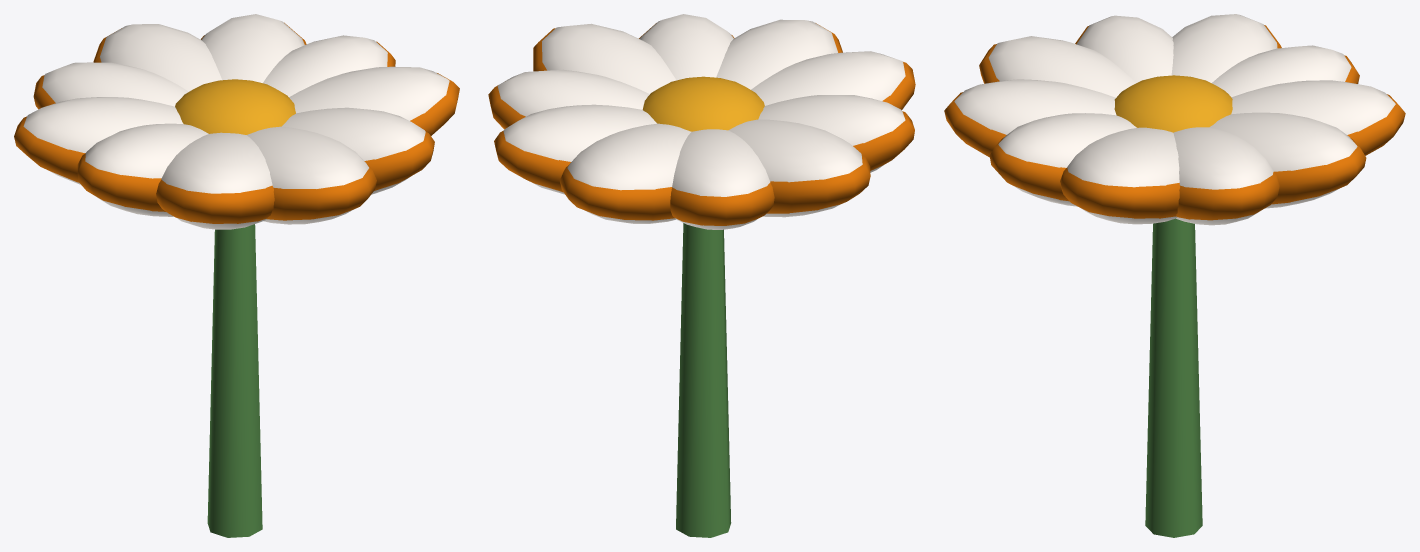
The model's file is cosmos-daisy-flower-orange.glb.
3 renders of one model, left to right at view 1: azimuth 30°, elevation 25°; view 2: azimuth 150°, elevation 25°; view 3: azimuth 270°, elevation 25°, orthographic.
Parts seen in each view (by area): view 1: stem, part_6, part_2, part_20, part_16, part_12, center, part_18, part_10, part_4, part_14, part_8 (+6 smaller); view 2: stem, part_12, part_16, part_6, part_20, part_14, part_10, center, part_2, part_8, part_18, part_4 (+7 smaller); view 3: stem, part_6, part_10, part_2, part_12, part_20, center, part_8, part_16, part_4, part_14, part_18 (+6 smaller).
Boxes of the visible parts, box(x1,y1,x2,y2) form: stem: box(207, 224, 262, 537); part_6: box(289, 66, 449, 120); part_2: box(247, 126, 368, 224); part_20: box(161, 132, 272, 229); part_16: box(23, 97, 183, 184); part_12: box(100, 24, 221, 91); center: box(175, 79, 295, 134); part_18: box(85, 123, 208, 216); part_10: box(201, 14, 304, 82); part_4: box(282, 107, 425, 194); part_14: box(42, 62, 188, 106); part_8: box(263, 35, 387, 96); stem: box(676, 223, 731, 537); part_12: box(567, 123, 691, 223); part_16: box(728, 119, 862, 217); part_6: box(542, 23, 676, 93); part_20: box(751, 51, 905, 105); part_14: box(672, 129, 770, 229); part_10: box(503, 104, 656, 194); center: box(642, 76, 764, 131); part_2: box(716, 19, 837, 89); part_8: box(497, 69, 649, 116); part_18: box(758, 95, 905, 172); part_4: box(640, 14, 733, 80); stem: box(1145, 218, 1202, 537); part_6: box(1067, 127, 1179, 224); part_10: box(1210, 112, 1357, 208); part_2: box(954, 79, 1116, 134); part_12: box(1231, 80, 1395, 134); part_20: box(988, 36, 1135, 97); center: box(1114, 75, 1232, 132); part_8: box(1173, 127, 1273, 225); part_16: box(1171, 14, 1277, 82); part_4: box(998, 113, 1136, 206); part_14: box(1212, 45, 1351, 97); part_18: box(1077, 15, 1173, 82).
Size of the model in its own units: 0.2743 by 0.3055 by 0.2898.
